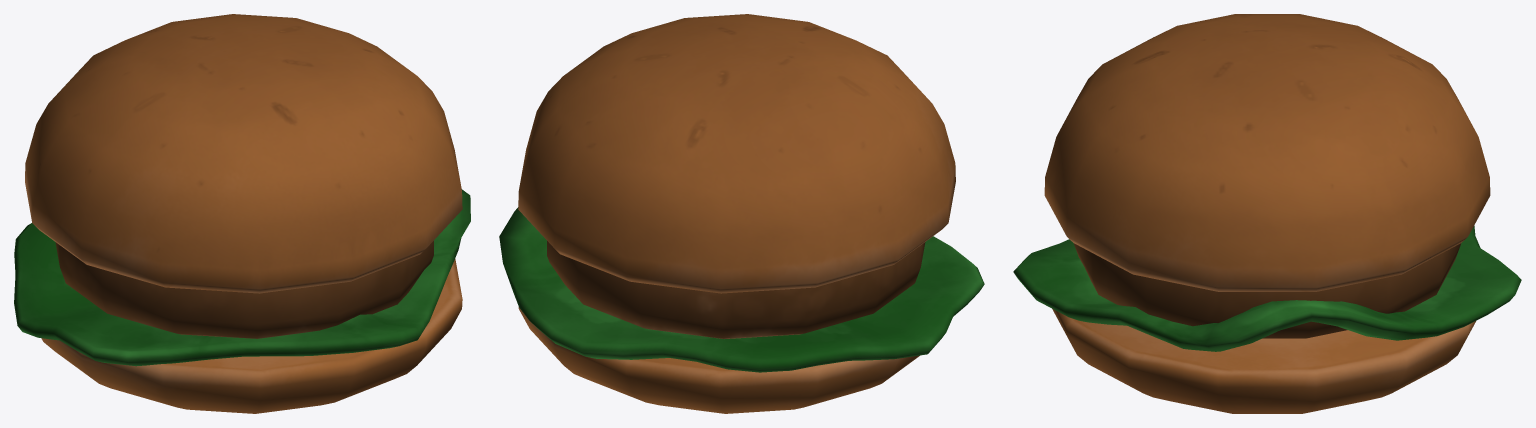
The model's file is MSH_Hamburguesa_P_C_L.fbx.
The picture shows the model from 3 angles, left to right: view 1: azimuth 30°, elevation 25°; view 2: azimuth 150°, elevation 25°; view 3: azimuth 270°, elevation 25°; orthographic projection.
Parts seen in each view (by area): view 1: MSH_Hamburguesa_P_C_L; view 2: MSH_Hamburguesa_P_C_L; view 3: MSH_Hamburguesa_P_C_L.
Part boxes in pixels (x1=…): MSH_Hamburguesa_P_C_L: x1=14, y1=14, x2=470, y2=413; MSH_Hamburguesa_P_C_L: x1=499, y1=14, x2=984, y2=413; MSH_Hamburguesa_P_C_L: x1=1013, y1=14, x2=1521, y2=413.
Bounding box in the file's own units: 16.25 × 16.87 × 11.09.
1 material, 1 textured.
